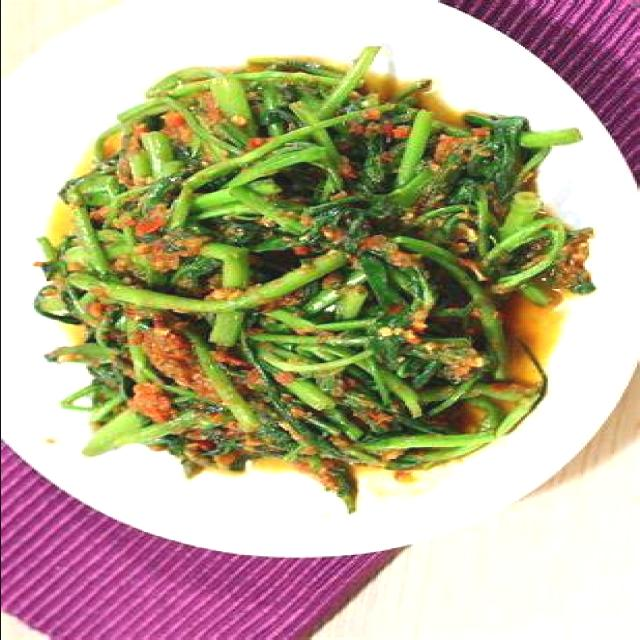tumis kangkung: (35, 42, 601, 502)
